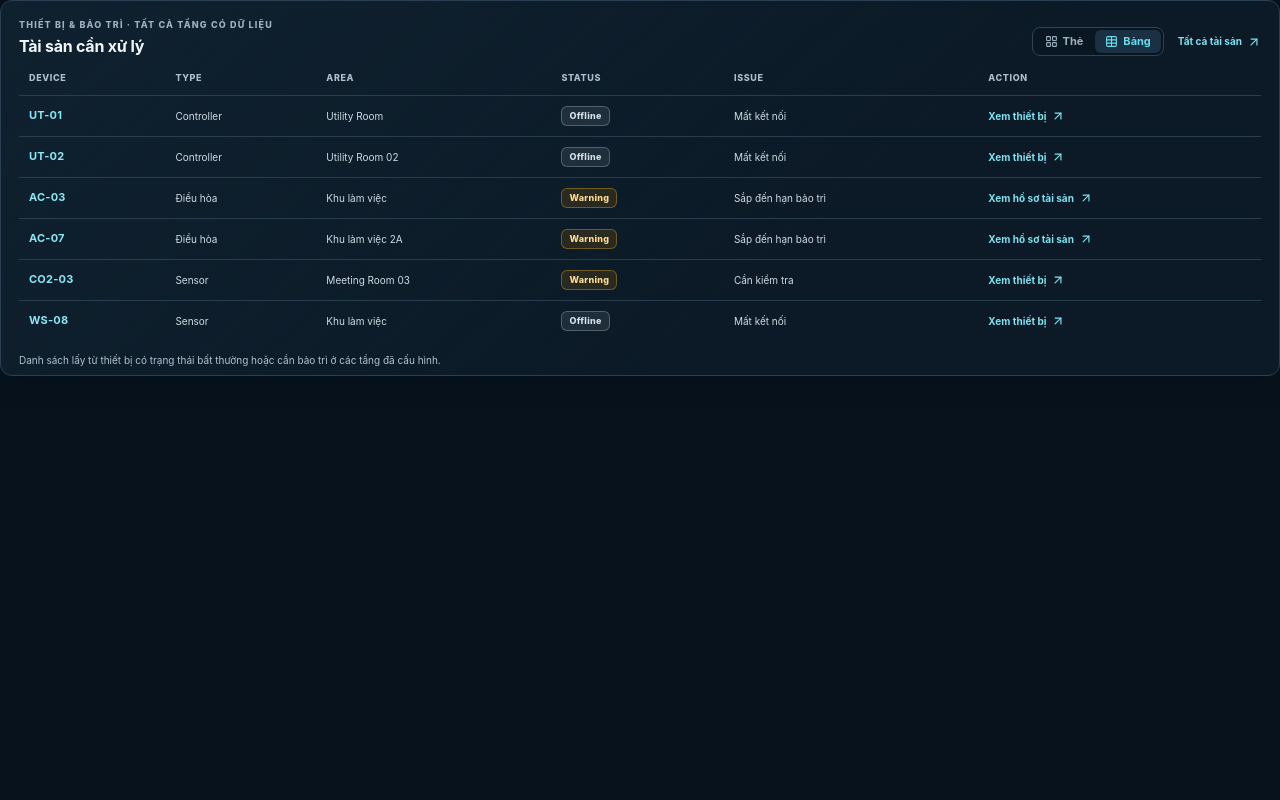
Test case: AssetExceptionsSection › opens AssetDetailDrawer from Table row or action link
// In table view, find UT-01 row action link
Click the link with aria-label "Xem thiết bị: UT-01". click: (1027, 116)
box: x1=988 y1=109 x2=1066 y2=123
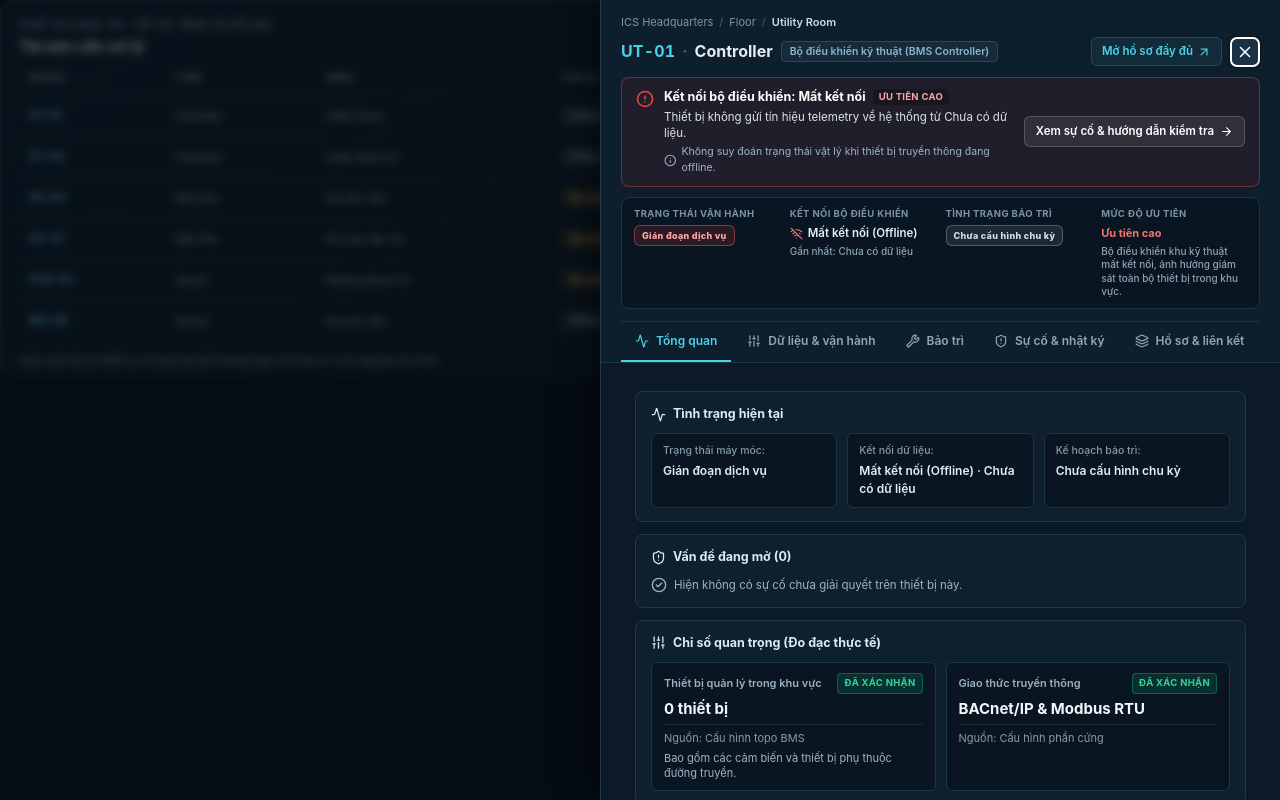
Expected: the dialog is shown, x1=600 y1=0 x2=1279 y2=799
